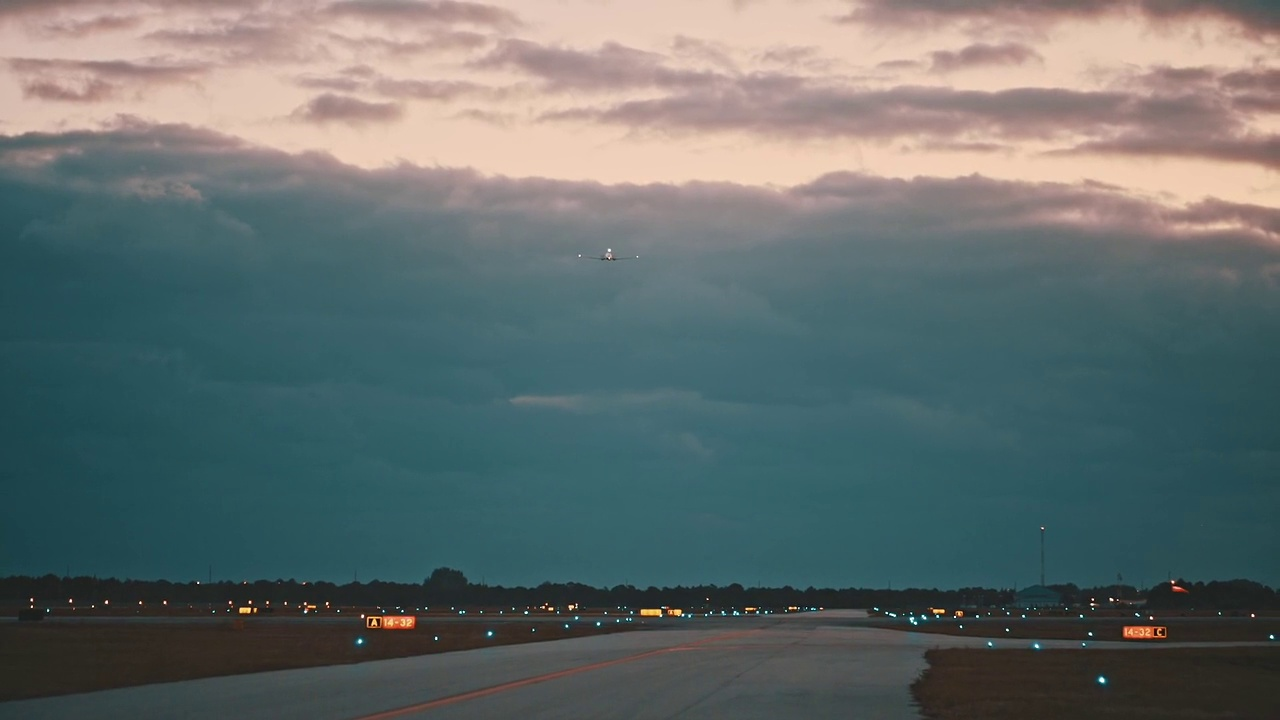plane: (578, 245, 638, 261)
